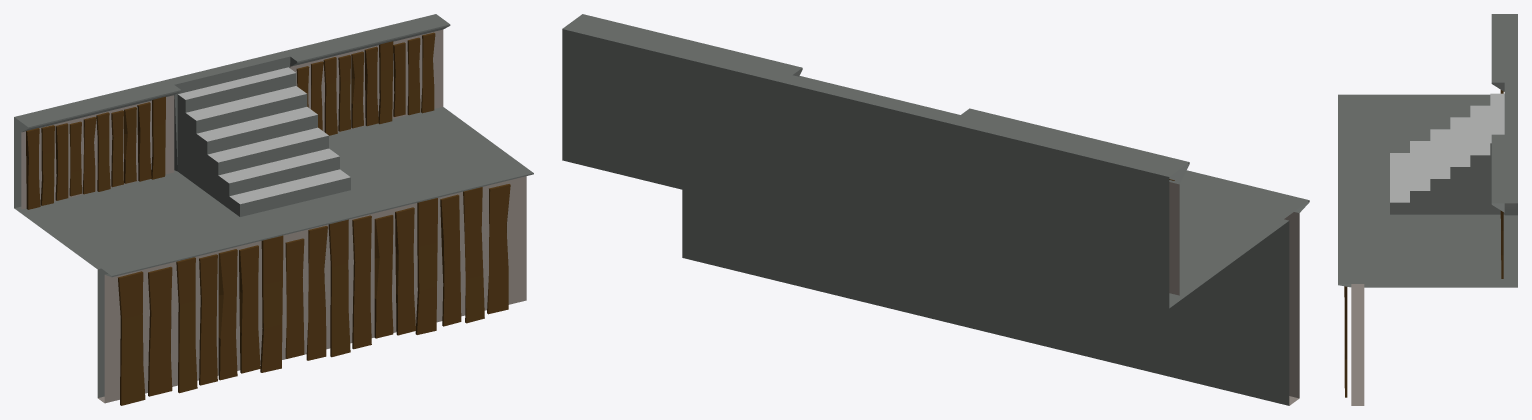
The model's file is Walkway_Harbour_Stairs.fbx.
3 views of the same model, side by side, from view 1: azimuth 30°, elevation 25°; view 2: azimuth 150°, elevation 25°; view 3: azimuth 270°, elevation 25° (orthographic). The views are drawn at different scales.
Parts seen in each view (by area): view 1: Plane; view 2: Plane; view 3: Plane.
Boxes of the visible parts, left/top/right/bottom form: Plane: left=14, top=14, right=533, bottom=405; Plane: left=562, top=14, right=1309, bottom=405; Plane: left=1338, top=14, right=1517, bottom=405.
Size of the model in its own units: 17.14 by 8.77 by 6.87.
